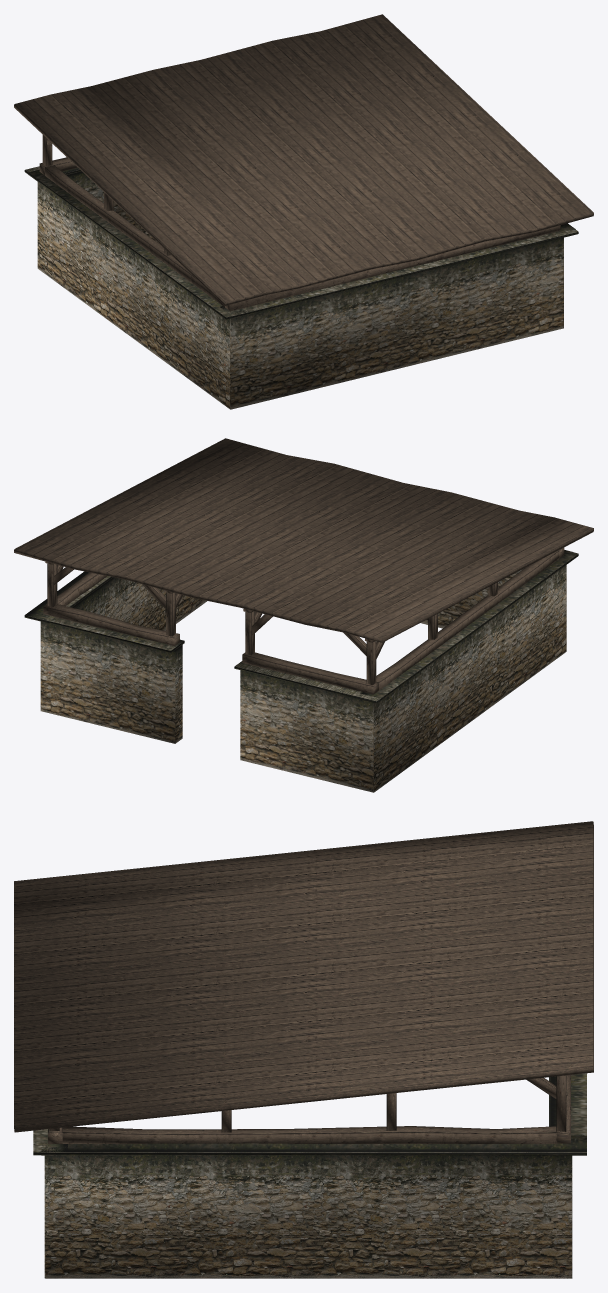
Rendered from barn2.dae.
3 views of the same model, one above another, from view 1: azimuth 30°, elevation 25°; view 2: azimuth 150°, elevation 25°; view 3: azimuth 270°, elevation 25° (orthographic). The views are drawn at different scales.
Visible parts, largest first — view 1: meshU3D; view 2: meshU3D; view 3: meshU3D.
Part boxes in pixels (x1,y1,x2,y2): meshU3D: [14, 14, 593, 409]; meshU3D: [14, 438, 593, 792]; meshU3D: [14, 821, 593, 1278].
Bounding box in the file's own units: 14.19 × 6.03 × 14.11.
